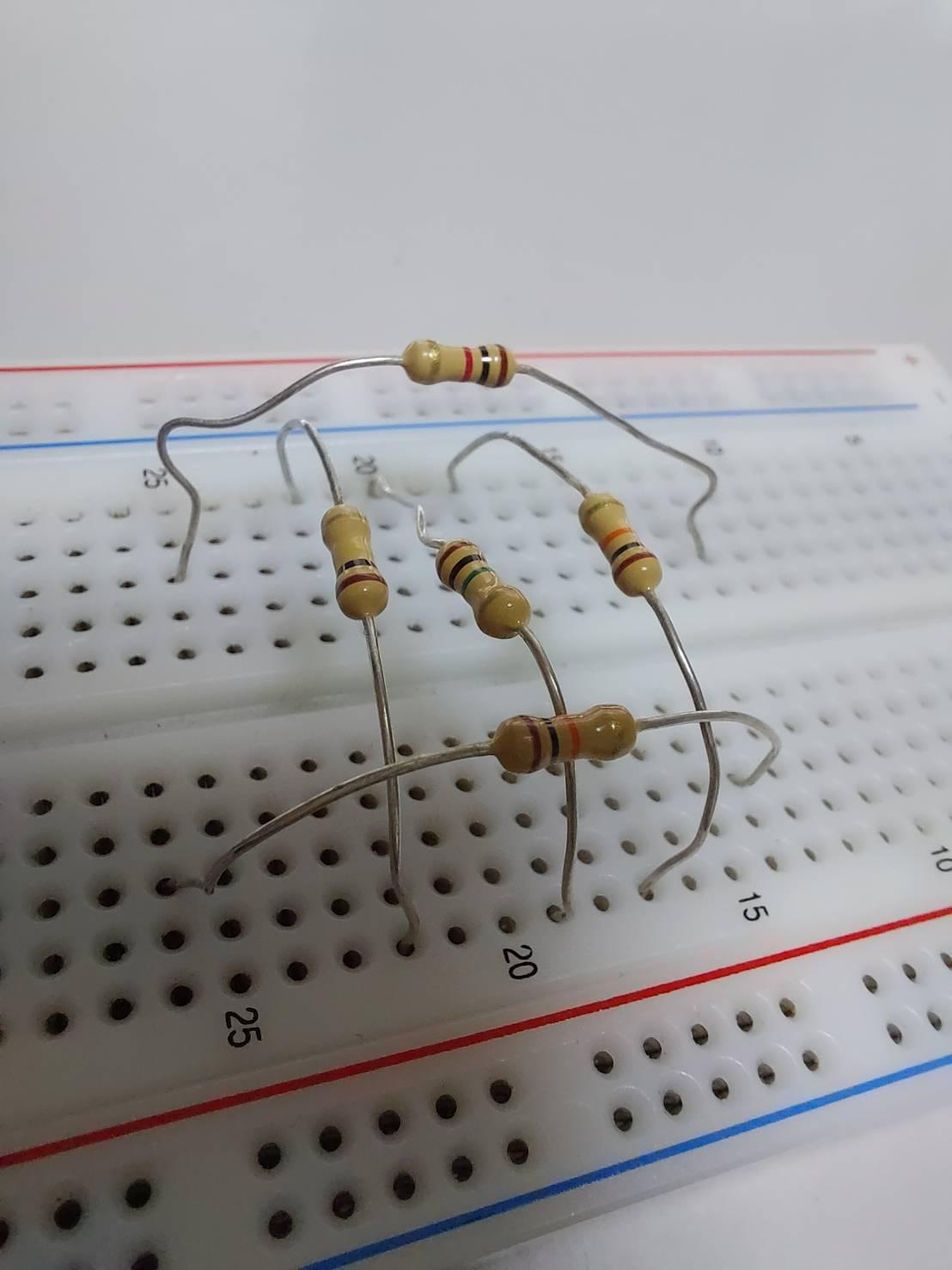resistor: (502, 702, 639, 769), (436, 538, 526, 635), (320, 500, 387, 629), (579, 490, 660, 595), (395, 335, 521, 394)
